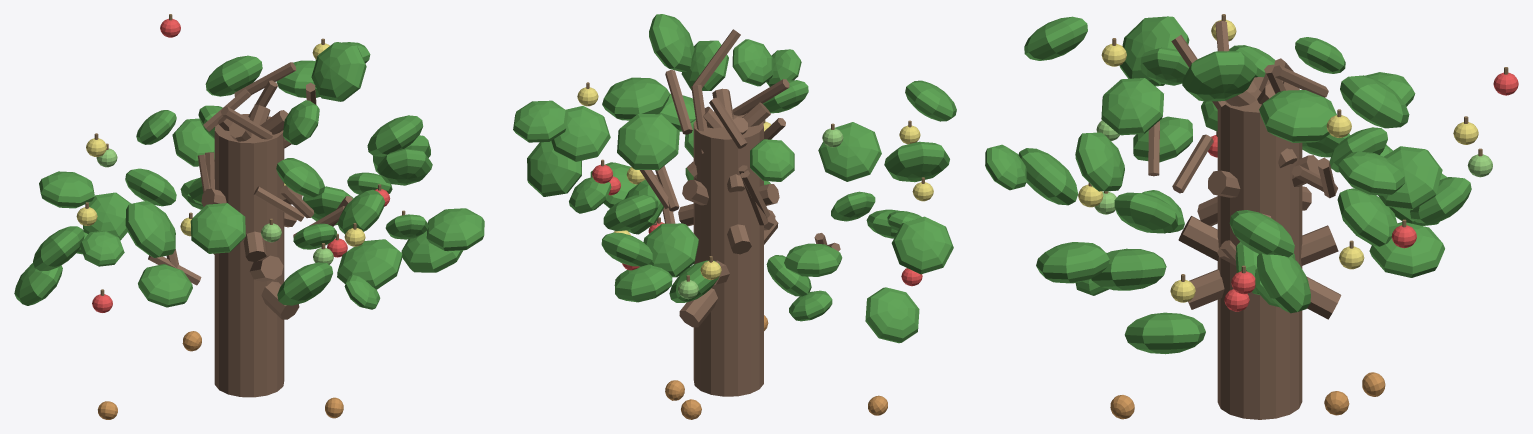
The model's file is apple_mature.glb.
3 views of the same model, side by side, from view 1: azimuth 30°, elevation 25°; view 2: azimuth 150°, elevation 25°; view 3: azimuth 270°, elevation 25° (orthographic). The views are drawn at different scales.
Visible parts, largest first — view 1: AppleMature_trunk, AppleMature_leaf_cluster_27, AppleMature_leaf_cluster_11, AppleMature_leaf_cluster_13, AppleMature_leaf_cluster_22, AppleMature_leaf_cluster_32, AppleMature_leaf_cluster_12, AppleMature_leaf_cluster_6, AppleMature_leaf_cluster_33, AppleMature_leaf_cluster_25, AppleMature_leaf_cluster_14, AppleMature_leaf_cluster_10 (+26 smaller); view 2: AppleMature_trunk, AppleMature_leaf_cluster_33, AppleMature_leaf_cluster_3, AppleMature_leaf_cluster_25, AppleMature_leaf_cluster_2, AppleMature_leaf_cluster_10, AppleMature_leaf_cluster_4, AppleMature_leaf_cluster_26, AppleMature_leaf_cluster_29, AppleMature_leaf_cluster_22, AppleMature_leaf_cluster_27, AppleMature_leaf_cluster_19 (+33 smaller); view 3: AppleMature_trunk, AppleMature_leaf_cluster_26, AppleMature_leaf_cluster_27, AppleMature_leaf_cluster_24, AppleMature_leaf_cluster_8, AppleMature_leaf_cluster_28, AppleMature_leaf_cluster_33, AppleMature_leaf_cluster_7, AppleMature_leaf_cluster_32, AppleMature_leaf_cluster_29, AppleMature_leaf_cluster_4, AppleMature_leaf_cluster_13 (+27 smaller).
Part boxes in pixels (x1,y1,x2,y2): AppleMature_trunk: [214, 114, 284, 397]; AppleMature_leaf_cluster_27: [311, 42, 366, 101]; AppleMature_leaf_cluster_11: [190, 203, 245, 253]; AppleMature_leaf_cluster_13: [337, 239, 402, 289]; AppleMature_leaf_cluster_22: [125, 200, 175, 257]; AppleMature_leaf_cluster_32: [426, 208, 484, 251]; AppleMature_leaf_cluster_12: [138, 264, 192, 307]; AppleMature_leaf_cluster_6: [39, 171, 94, 208]; AppleMature_leaf_cluster_33: [205, 55, 262, 96]; AppleMature_leaf_cluster_25: [277, 262, 332, 305]; AppleMature_leaf_cluster_14: [377, 148, 432, 185]; AppleMature_leaf_cluster_10: [367, 115, 423, 156]; AppleMature_trunk: [693, 110, 763, 396]; AppleMature_leaf_cluster_33: [617, 114, 679, 170]; AppleMature_leaf_cluster_3: [891, 216, 953, 274]; AppleMature_leaf_cluster_25: [818, 122, 881, 181]; AppleMature_leaf_cluster_2: [865, 287, 919, 343]; AppleMature_leaf_cluster_10: [551, 106, 610, 161]; AppleMature_leaf_cluster_4: [527, 141, 581, 196]; AppleMature_leaf_cluster_26: [602, 77, 669, 120]; AppleMature_leaf_cluster_29: [643, 223, 698, 277]; AppleMature_leaf_cluster_22: [884, 141, 949, 182]; AppleMature_leaf_cluster_27: [649, 14, 694, 71]; AppleMature_leaf_cluster_19: [513, 100, 568, 142]; AppleMature_trunk: [1217, 77, 1302, 419]; AppleMature_leaf_cluster_26: [1259, 90, 1336, 142]; AppleMature_leaf_cluster_27: [1182, 51, 1257, 101]; AppleMature_leaf_cluster_24: [1101, 78, 1163, 135]; AppleMature_leaf_cluster_8: [1124, 312, 1205, 354]; AppleMature_leaf_cluster_28: [1378, 146, 1442, 209]; AppleMature_leaf_cluster_33: [1340, 75, 1409, 128]; AppleMature_leaf_cluster_7: [1369, 222, 1444, 277]; AppleMature_leaf_cluster_32: [1036, 242, 1109, 283]; AppleMature_leaf_cluster_29: [1337, 188, 1397, 246]; AppleMature_leaf_cluster_4: [1257, 253, 1310, 313]; AppleMature_leaf_cluster_13: [1091, 248, 1166, 290].
Size of the model in its own units: 2.66 by 2.08 by 2.52.
